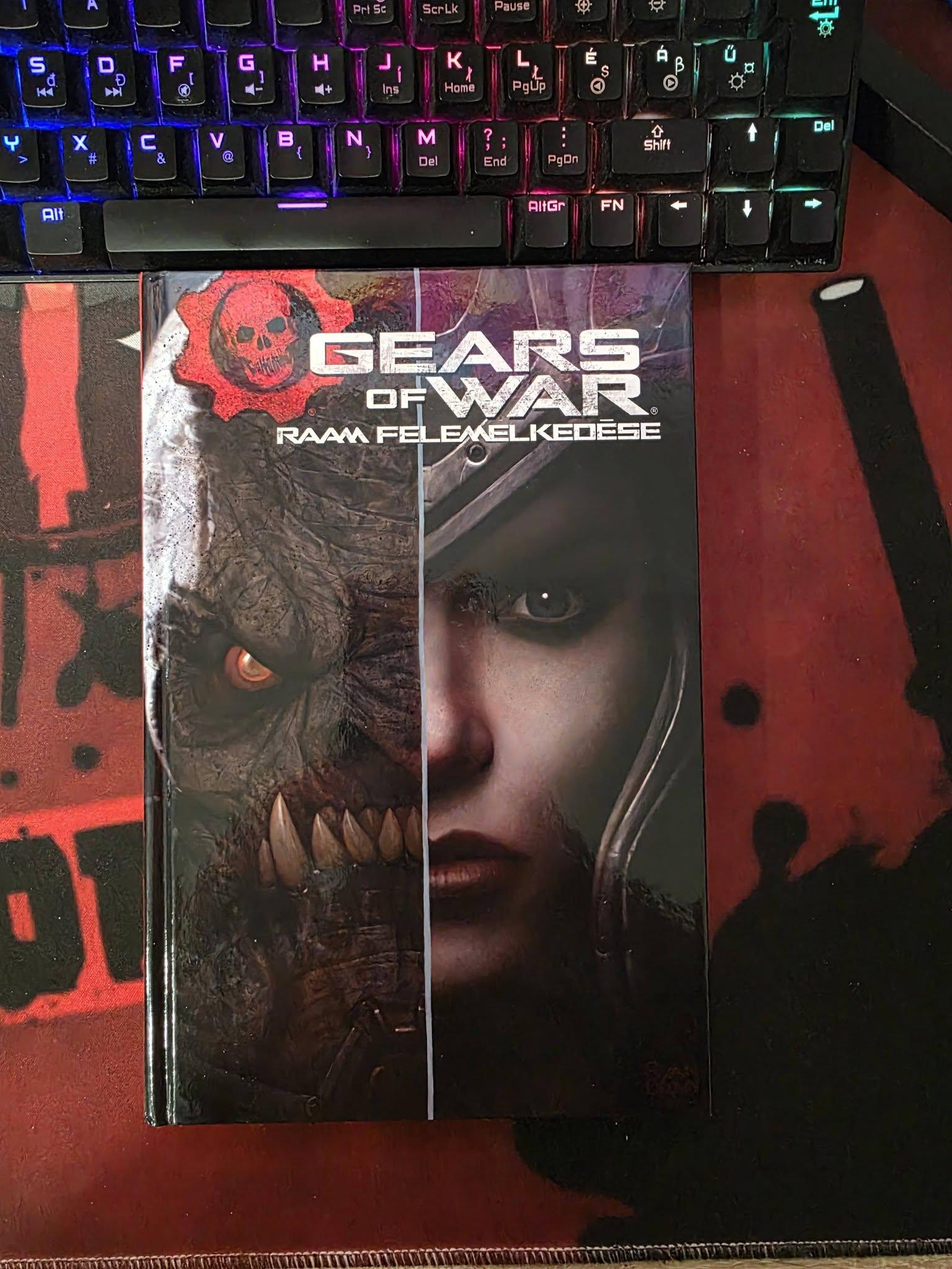comic: (138, 265, 708, 1123)
